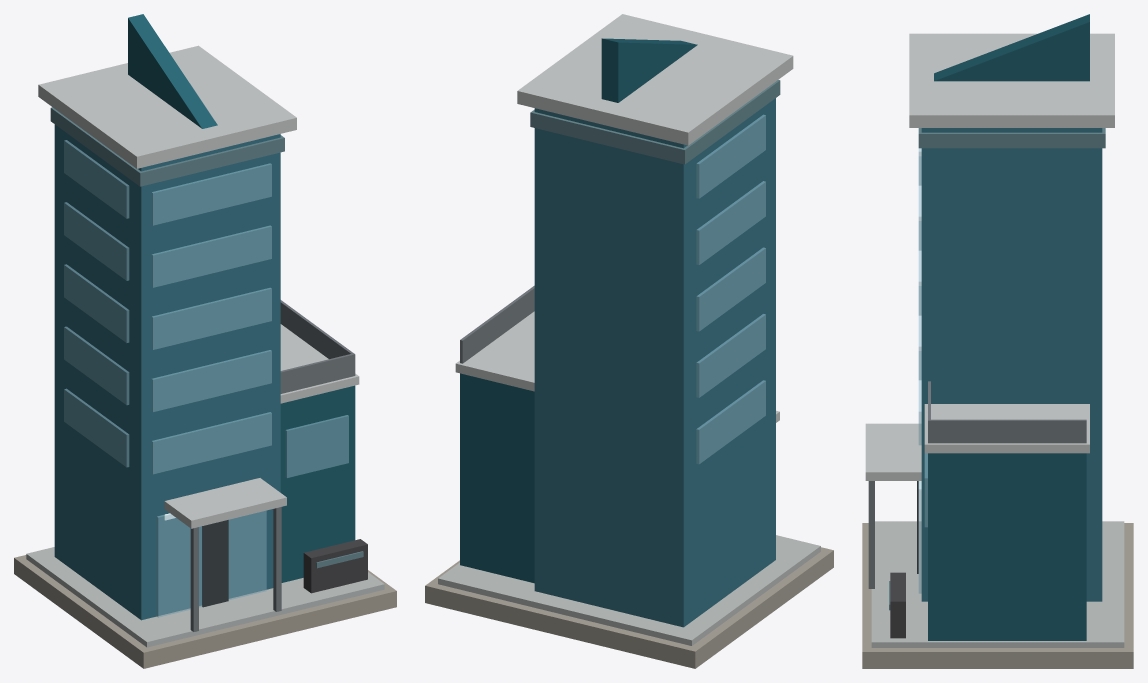
3 views of the same model, side by side, from view 1: azimuth 30°, elevation 25°; view 2: azimuth 150°, elevation 25°; view 3: azimuth 270°, elevation 25° (orthographic). The views are drawn at different scales.
Parts seen in each view (by area): view 1: w-hq; view 2: w-hq; view 3: w-hq.
Part boxes in pixels (x1,y1,x2,y2): w-hq: [14, 14, 396, 668]; w-hq: [425, 14, 833, 668]; w-hq: [862, 14, 1133, 668].
Bounding box in the file's own units: 1.96 × 4.06 × 1.74.
